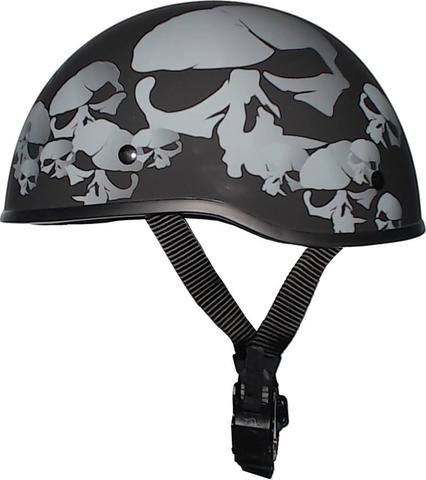with_helmet: (1, 3, 426, 261)
